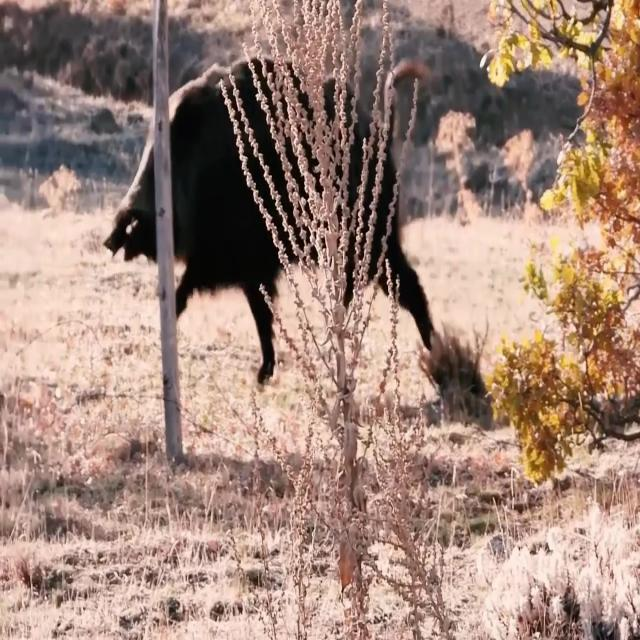pig: (100, 40, 470, 403)
